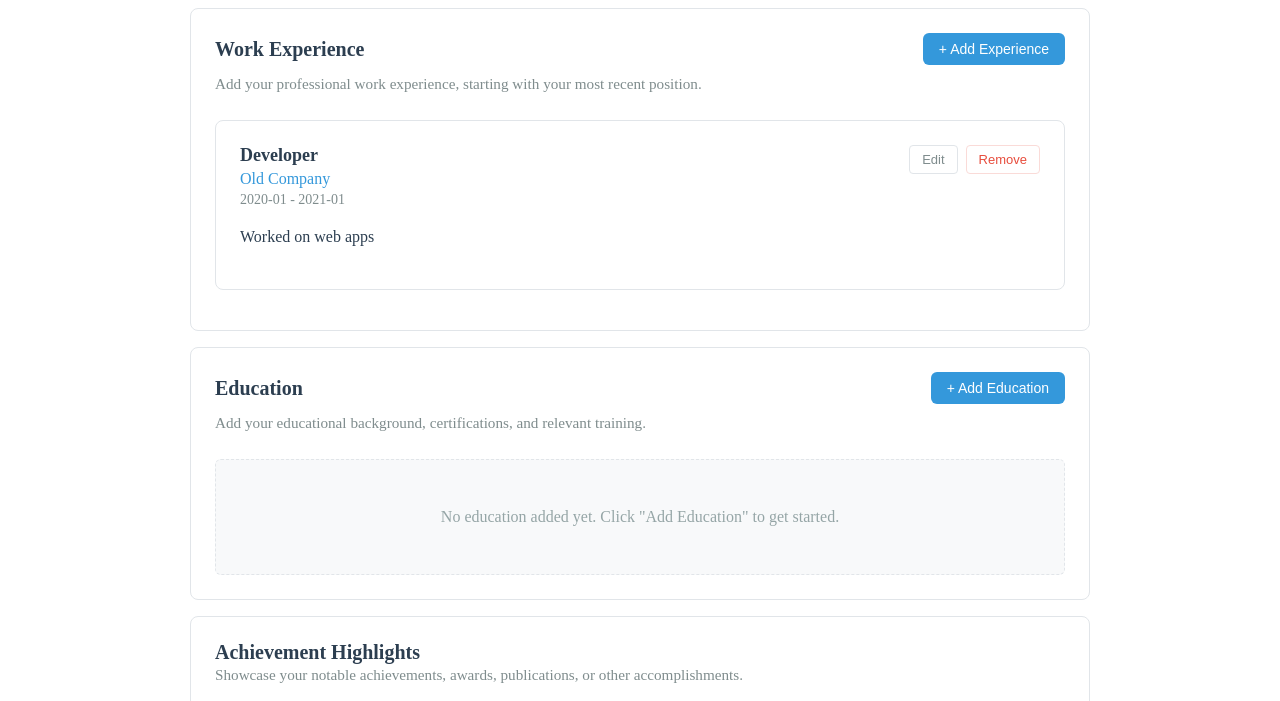
Test: ExperienceStep Component › Work Experience Management › allows editing existing work experience
What coordinates should you click on to do the following:
click the button "Edit"
I would click on:
 (933, 159)
Its box is [909, 145, 958, 174].
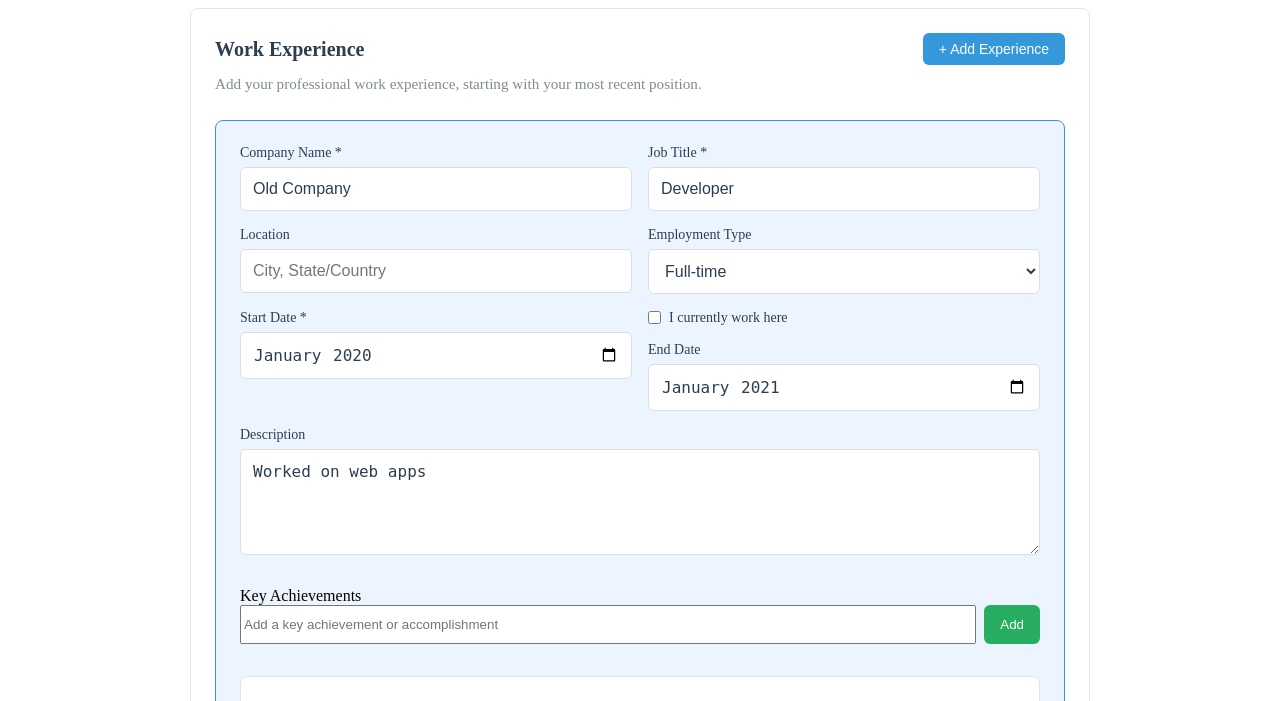
Check: the field showing "Old Company" below "Company Name *" is shown, box [240, 167, 632, 211]
Check: the field showing "Developer" below "Job Title *" is shown, box [648, 167, 1040, 211]
